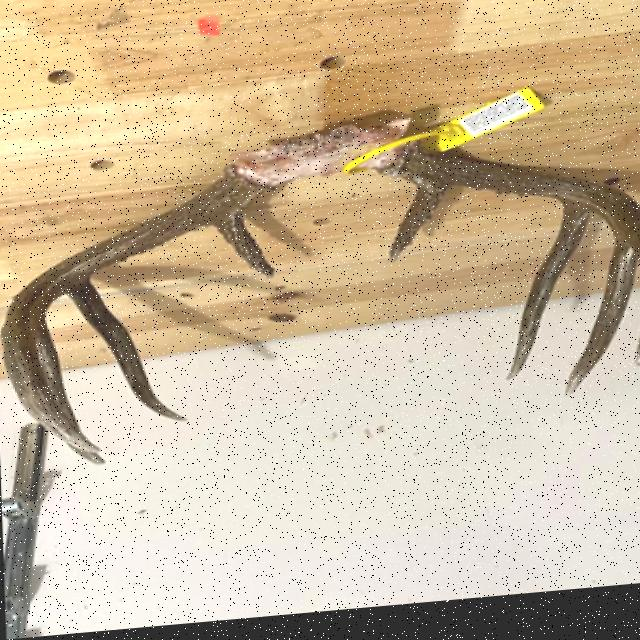L-F: (0, 169, 278, 455)
L-G1: (212, 212, 279, 286)
L-G2: (64, 276, 190, 427)
R-F: (374, 148, 640, 277)
R-G1: (388, 188, 452, 272)
R-G2: (504, 209, 592, 393)
R-G3: (565, 247, 638, 409)
